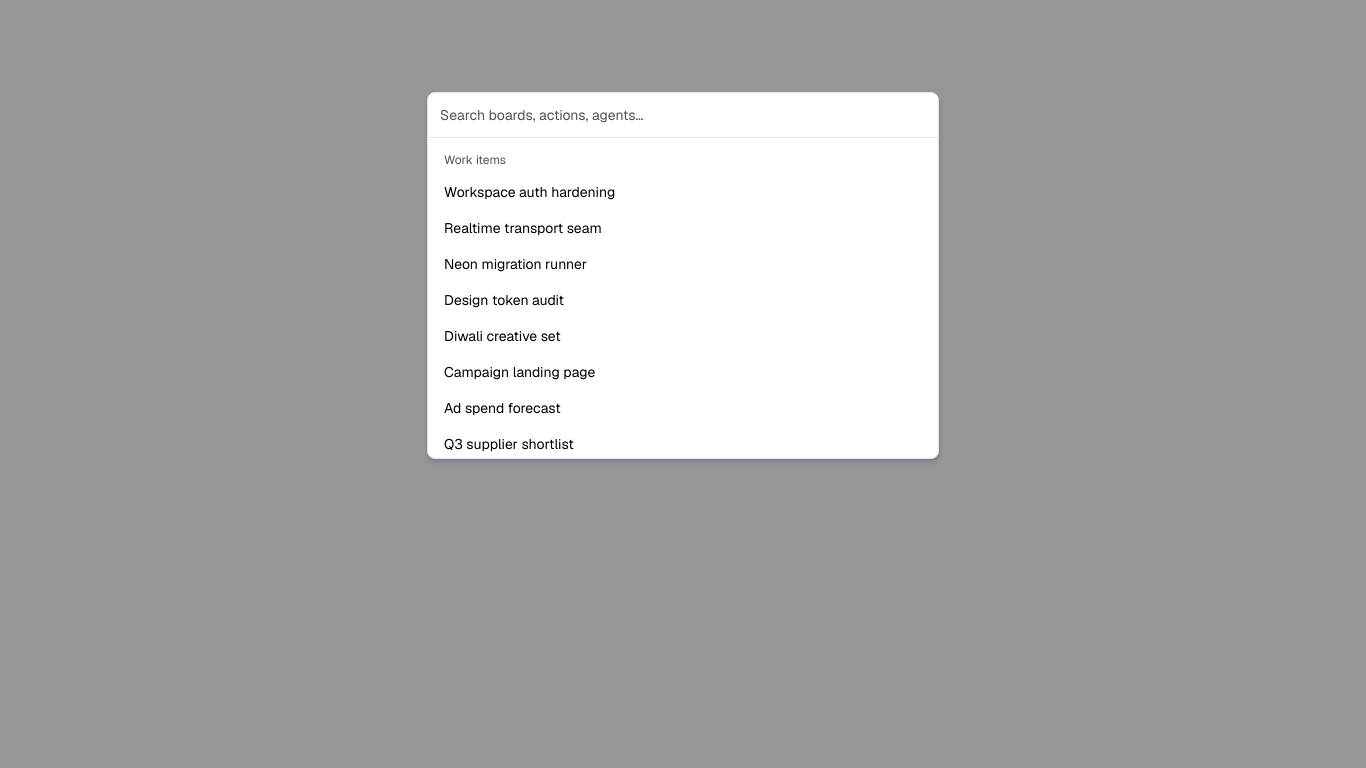
Test: CommandPalette › lists work items from the repository and filters by title
Expected: the option "Realtime transport seam" is shown, [444, 219, 602, 237]
Expected: the option "Workspace auth hardening" is shown, [444, 183, 615, 201]
// Typing a title narrows the list via cmdk's built-in filtering.
In the dropdown: (683, 116) [428, 93, 938, 138], type "Realtime transport"
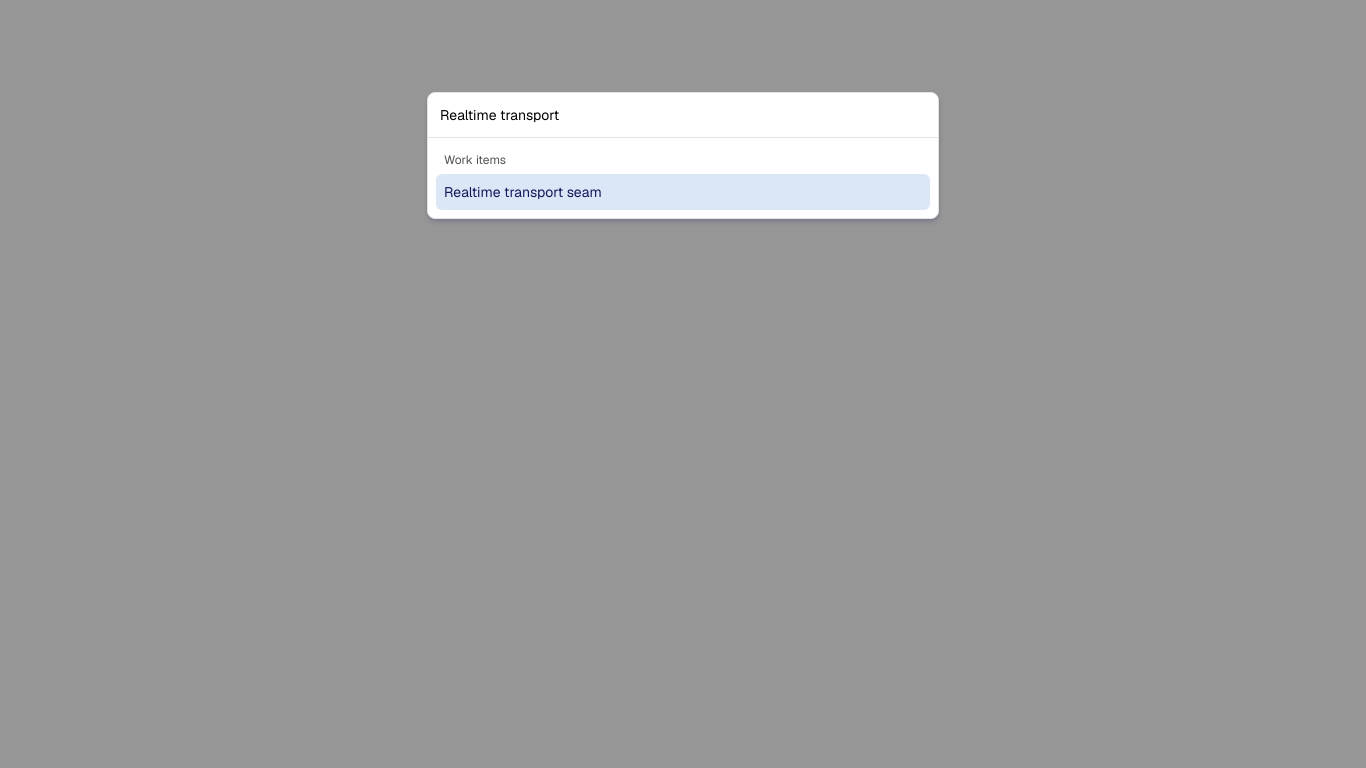
Expected: the option "Realtime transport seam" is shown, [436, 174, 930, 210]
Expected: the option "Workspace auth hardening" is gone
